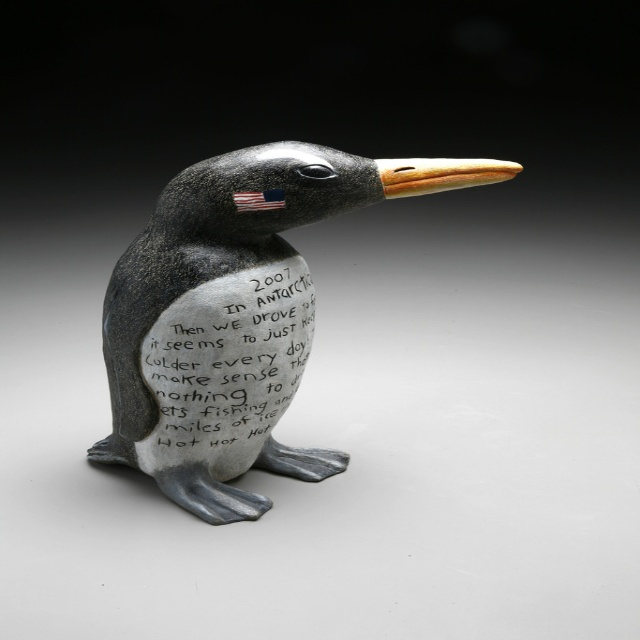Penguin: (72, 145, 509, 501)
